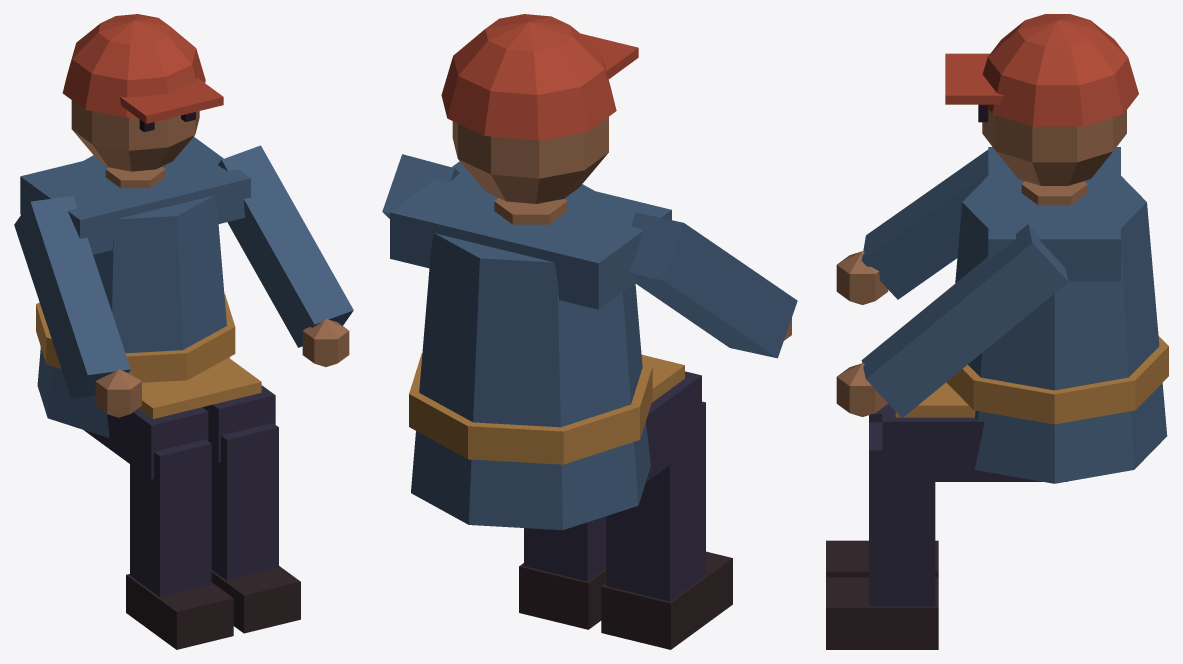
File: person_crew_seated.gltf
The picture shows the model from 3 angles, left to right: view 1: azimuth 30°, elevation 25°; view 2: azimuth 150°, elevation 25°; view 3: azimuth 270°, elevation 25°; orthographic projection. The views are drawn at different scales.
Parts seen in each view (by area): view 1: body, face; view 2: body, face; view 3: body, face.
Part boxes in pixels (<box>): body: <box>14,137,353,649</box>; face: <box>62,14,223,171</box>; body: <box>382,154,797,649</box>; face: <box>441,14,638,203</box>; body: <box>826,146,1168,649</box>; face: <box>945,14,1138,185</box>.
Bounding box in the file's own units: 1.03 × 1.98 × 1.03.
